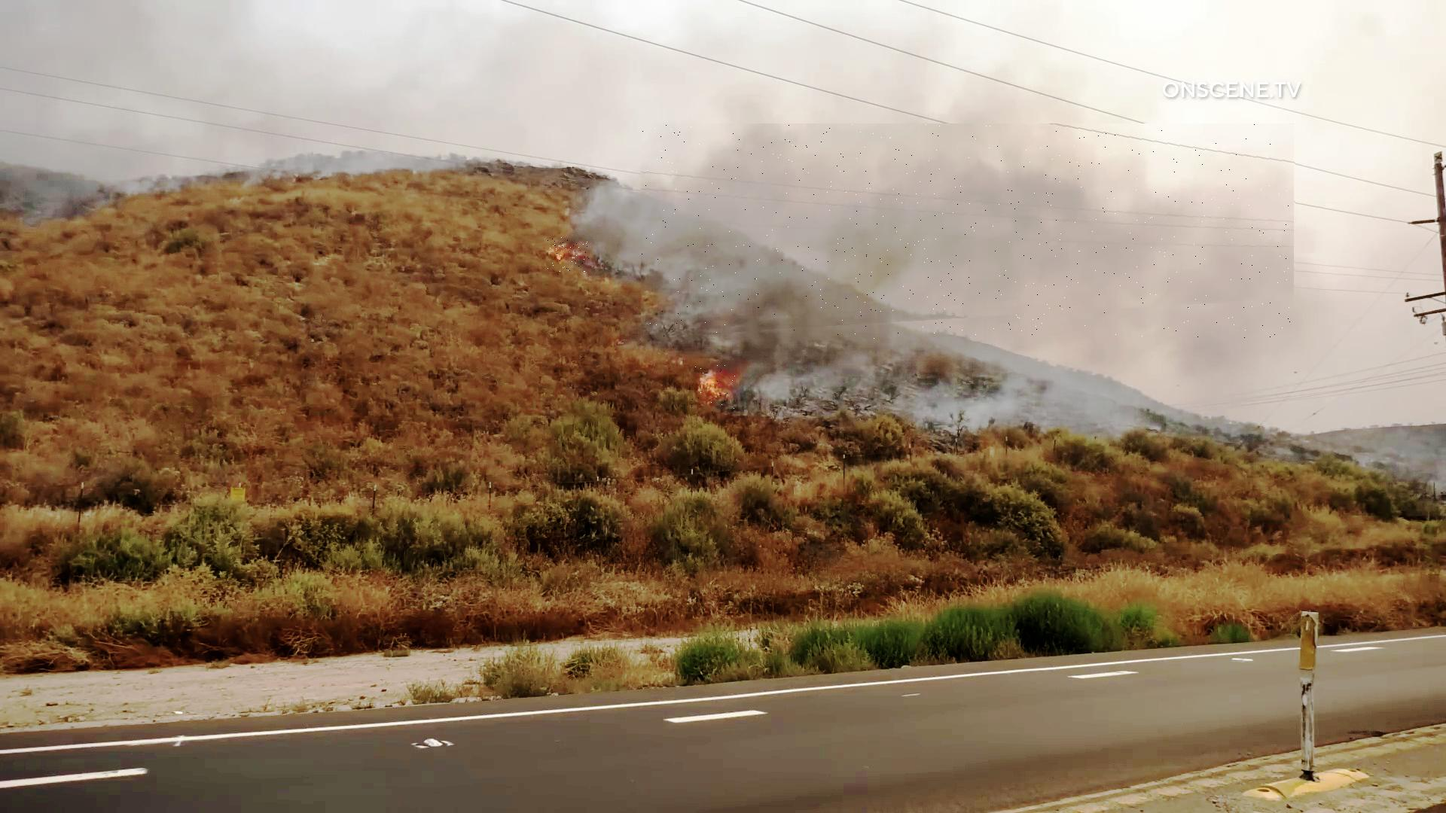fire: (690, 364, 736, 413), (547, 237, 590, 272)
smoke: (642, 124, 1296, 339)
